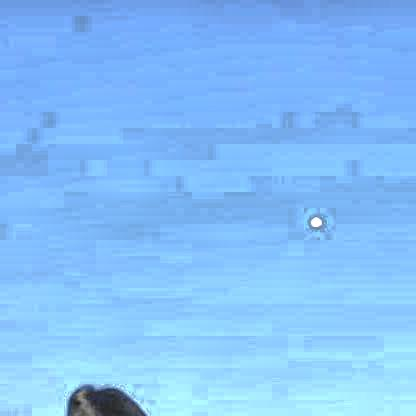golfball: (307, 212, 321, 227)
